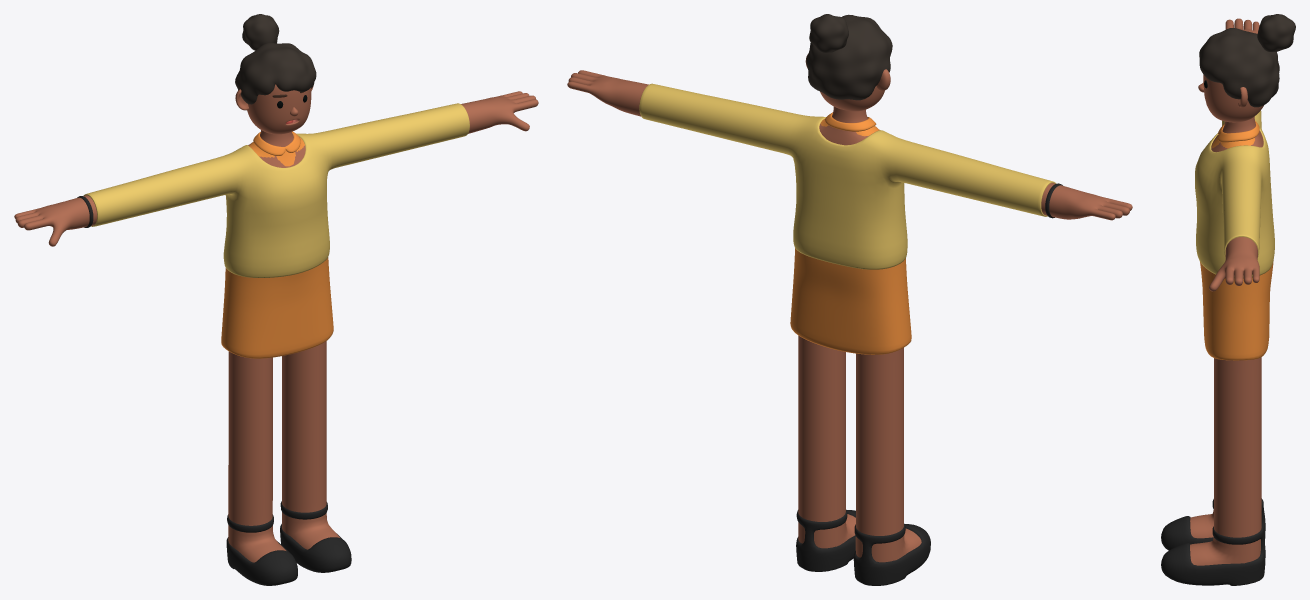
File: GIRL 8.fbx
3 renders of one model, left to right at view 1: azimuth 30°, elevation 25°; view 2: azimuth 150°, elevation 25°; view 3: azimuth 270°, elevation 25°, orthographic. The views are drawn at different scales.
Visible parts, largest first — view 1: GIRL_BODY_WITH SKIRT.003, GIRL 8_SHIRT, GIRL 8_SKIRT, GIRL 8_HAIR, GIRL_8_SHOES.R, GIRL_8_SHOES.L, GIRL 8_SHIRT.001; view 2: GIRL 8_SHIRT, GIRL_BODY_WITH SKIRT.003, GIRL 8_SKIRT, GIRL 8_HAIR, GIRL_8_SHOES.R, GIRL_8_SHOES.L; view 3: GIRL_BODY_WITH SKIRT.003, GIRL 8_SHIRT, GIRL 8_HAIR, GIRL 8_SKIRT, GIRL_8_SHOES.L, GIRL_8_SHOES.R, GIRL 8_SHIRT.001.
Boxes of the visible parts, x1,y1,x2,y2 form: GIRL_BODY_WITH SKIRT.003: [14, 84, 538, 562]; GIRL 8_SHIRT: [83, 103, 469, 277]; GIRL 8_SKIRT: [221, 257, 333, 358]; GIRL 8_HAIR: [235, 14, 316, 104]; GIRL_8_SHOES.R: [226, 514, 297, 585]; GIRL_8_SHOES.L: [280, 501, 351, 572]; GIRL 8_SHIRT.001: [249, 131, 304, 166]; GIRL 8_SHIRT: [639, 83, 1056, 269]; GIRL_BODY_WITH SKIRT.003: [567, 53, 1132, 562]; GIRL 8_SKIRT: [790, 248, 911, 354]; GIRL 8_HAIR: [806, 14, 892, 100]; GIRL_8_SHOES.R: [853, 523, 930, 585]; GIRL_8_SHOES.L: [796, 509, 855, 571]; GIRL_BODY_WITH SKIRT.003: [1190, 18, 1263, 565]; GIRL 8_SHIRT: [1195, 110, 1274, 277]; GIRL 8_HAIR: [1199, 14, 1295, 107]; GIRL 8_SKIRT: [1200, 262, 1273, 360]; GIRL_8_SHOES.L: [1161, 525, 1265, 585]; GIRL_8_SHOES.R: [1161, 498, 1265, 550]; GIRL 8_SHIRT.001: [1212, 121, 1259, 148].
Bounding box in the file's own units: 205 × 199 × 44.34.
Materials: 11 (8 with a texture image).
